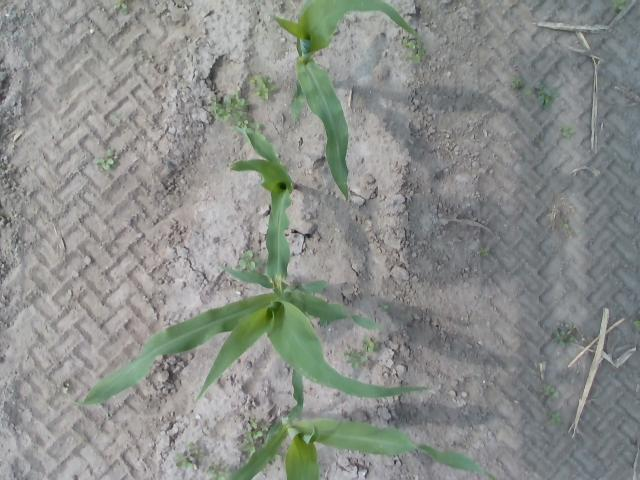Maize: (82, 264, 430, 404), (229, 367, 496, 480), (274, 0, 418, 205), (232, 130, 298, 280)
Weeds: (209, 97, 253, 130), (250, 76, 275, 100), (536, 88, 560, 108), (178, 446, 202, 466), (346, 351, 369, 371), (236, 250, 255, 270), (208, 462, 230, 478), (95, 150, 114, 168), (560, 123, 576, 138), (240, 438, 256, 453), (410, 50, 428, 63), (548, 411, 564, 425), (251, 424, 265, 440), (362, 338, 380, 350), (610, 1, 625, 13), (538, 385, 556, 395), (404, 39, 419, 50), (116, 1, 130, 12), (512, 78, 526, 88), (62, 380, 71, 394), (476, 250, 488, 256)
